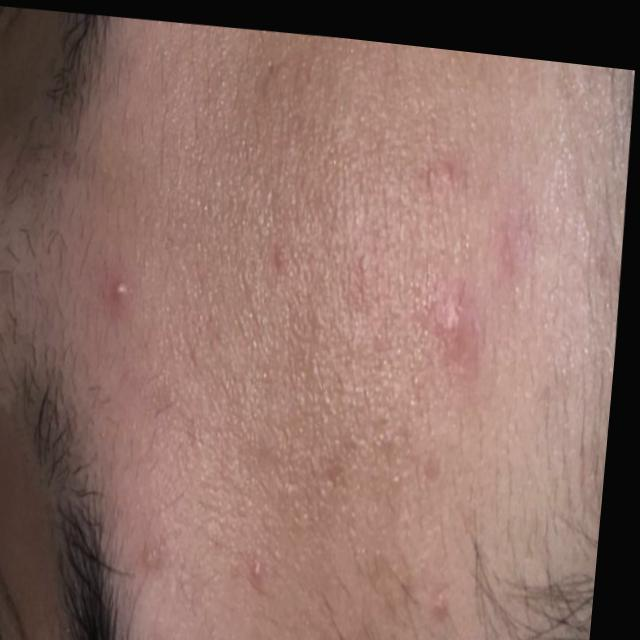papule: (409, 124, 565, 427)
pustule: (242, 537, 289, 590), (105, 262, 156, 310)
